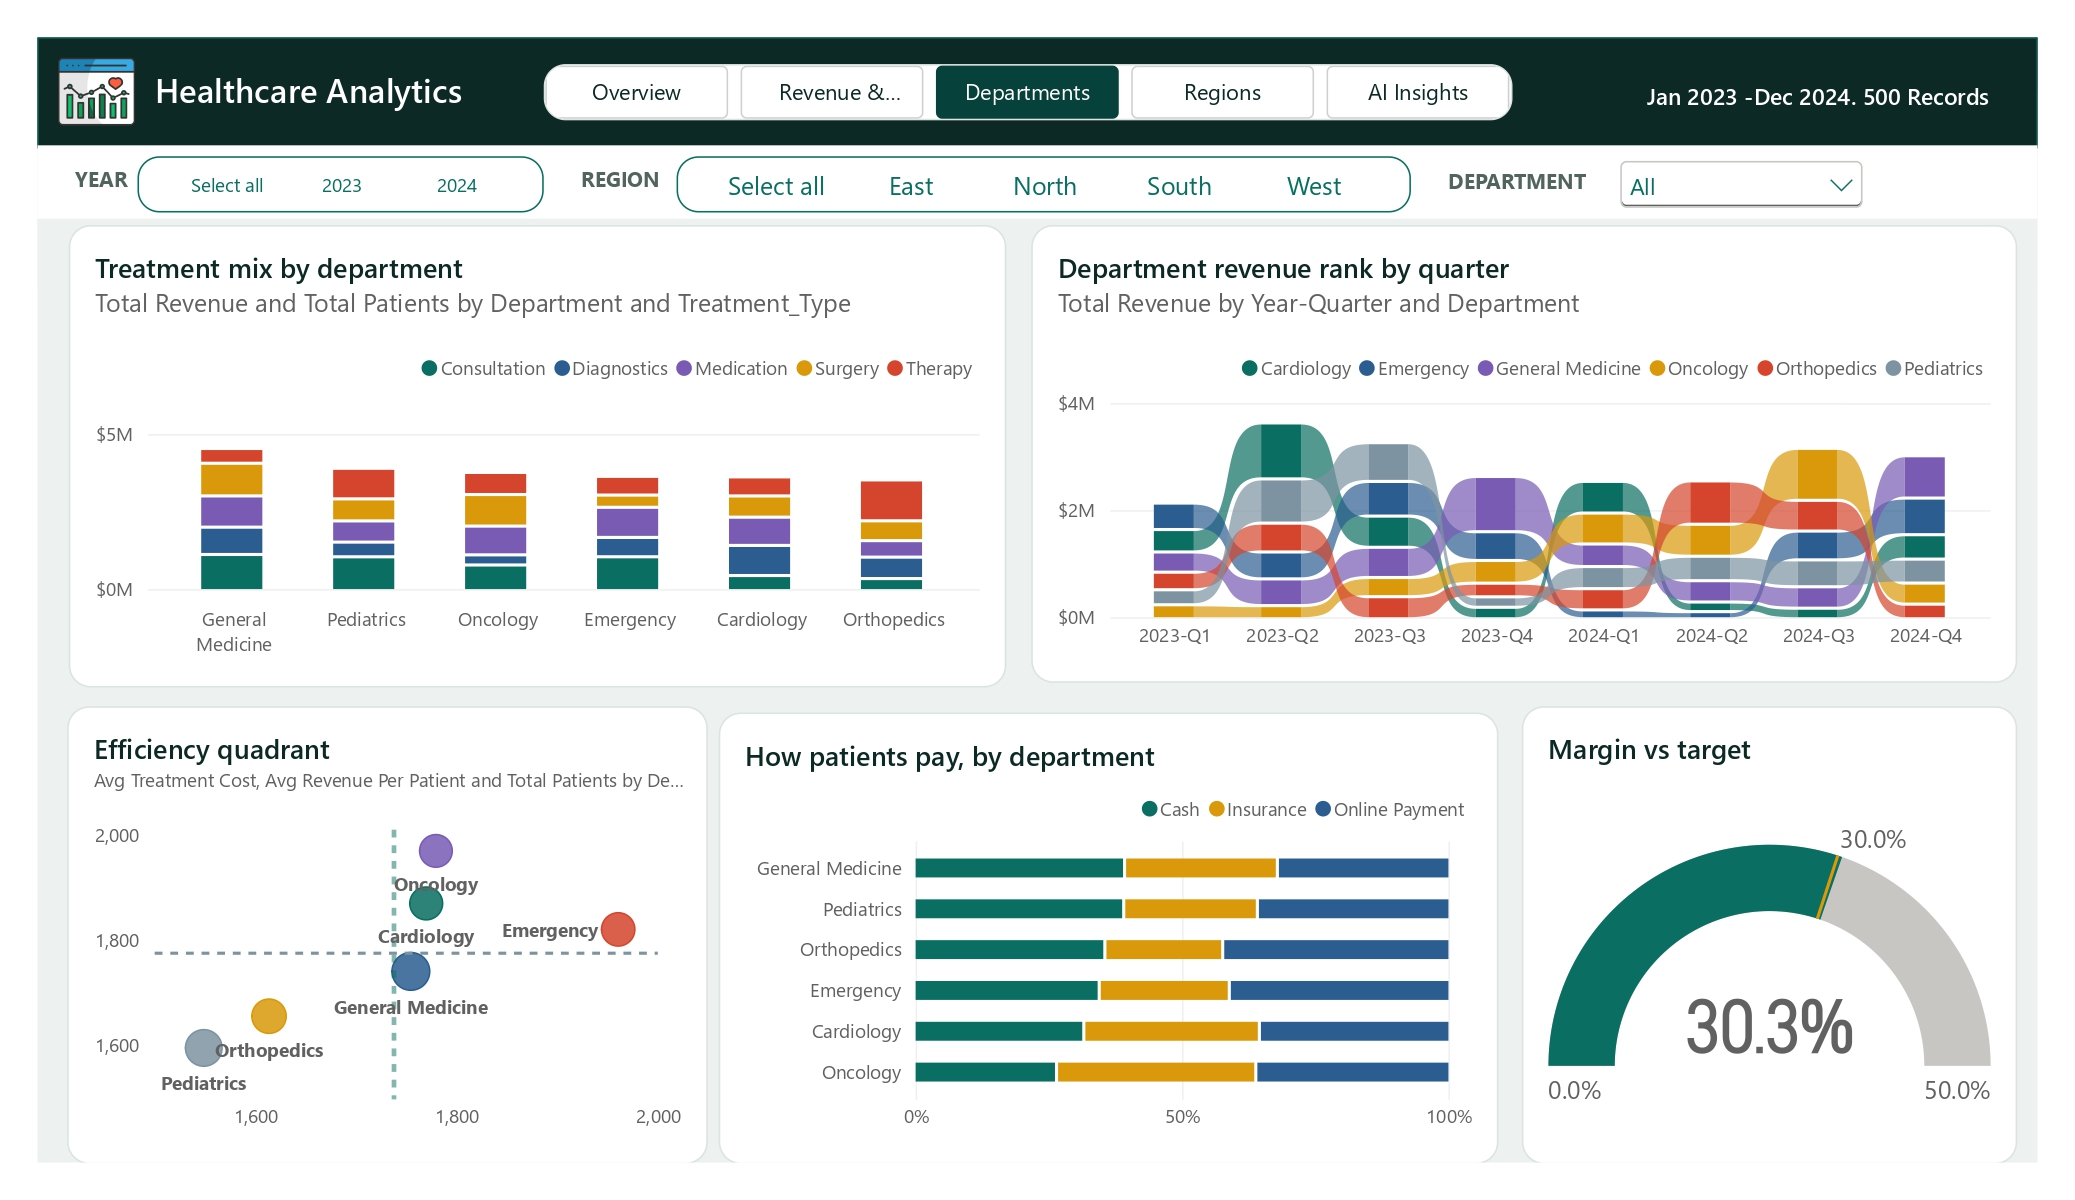

The page's visual inventory and layout, read from the dashboard file:
{"tool":"powerbi","page":{"name":"Departments","canvas":[1280,720],"ordinal":2},"visuals":[{"type":"shape","box":[0,0,1279.7,70.7],"z":0},{"type":"shape","box":[0,69,1280,47],"z":1000},{"type":"slicer","fields":{"Values":["DateTable.Year"]},"box":[64,75.8,260,36],"z":2000},{"type":"slicer","fields":{"Values":["Sheet1.Region"]},"box":[408.8,75.8,470.2,36.6],"z":3000},{"type":"slicer","fields":{"Values":["Sheet1.Department"]},"box":[1008.3,74.4,164.6,36.6],"z":4000},{"type":"textbox","box":[24,82,50.5,34.6],"z":5000},{"type":"textbox","box":[348,82,56,24],"z":6000},{"type":"textbox","box":[902.5,83,94,23.5],"z":7000},{"type":"textbox","box":[75,18.8,228,31.7],"z":8000},{"type":"image","box":[11.2,0,52.9,68.9],"z":9000},{"type":"textbox","box":[1030,27,249.5,30],"z":10000},{"type":"columnChart","title":"Treatment mix by department","fields":{"Category":["Sheet1.Department"],"Series":["Sheet1.Treatment_Type"],"Y":["_Measures.Total Revenue"]},"box":[20,120,600,296],"z":11000},{"type":"ribbonChart","title":"Department revenue rank by quarter","fields":{"Category":["DateTable.Year-Quarter"],"Series":["Sheet1.Department"],"Y":["_Measures.Total Revenue"]},"box":[635.8,120.1,631,293.1],"z":12000},{"type":"scatterChart","title":"Efficiency quadrant","fields":{"Category":["Sheet1.Department"],"Series":["Sheet1.Department"],"Size":["_Measures.Total Patients"],"X":["_Measures.Avg Treatment Cost"],"Y":["_Measures.Avg Revenue Per Patient"]},"box":[19.2,427.6,410,293.1],"z":13000},{"type":"hundredPercentStackedBarChart","title":"How patients pay, by department","fields":{"Category":["Sheet1.Department"],"Series":["Sheet1.Payment_Method"],"Y":["_Measures.Total Patients"]},"box":[435.6,432.4,499.7,288.3],"z":14000},{"type":"gauge","title":"Margin vs target","fields":{"TargetValue":["_Measures.Target Margin"],"Y":["_Measures.Profit Margin %"]},"box":[949.8,427.6,317.1,293.1],"z":15000},{"type":"pageNavigator","box":[323.9,17,620,36],"z":16000}]}

Visuals, with their boxes on the page's 1280x720 design canvas (x1, y1, x2, y2). These are canvas units, not pixel positions in the 2075x1200 screenshot, which may show the page scaled, cropped or inside an application window:
shape: [0, 0, 1280, 71]
shape: [0, 69, 1280, 116]
slicer - DateTable.Year: [64, 76, 324, 112]
slicer - Sheet1.Region: [409, 76, 879, 112]
slicer - Sheet1.Department: [1008, 74, 1173, 111]
textbox: [24, 82, 74, 117]
textbox: [348, 82, 404, 106]
textbox: [902, 83, 996, 106]
textbox: [75, 19, 303, 50]
image: [11, 0, 64, 69]
textbox: [1030, 27, 1280, 57]
"Treatment mix by department" columnChart: [20, 120, 620, 416]
"Department revenue rank by quarter" ribbonChart: [636, 120, 1267, 413]
"Efficiency quadrant" scatterChart: [19, 428, 429, 721]
"How patients pay, by department" hundredPercentStackedBarChart: [436, 432, 935, 721]
"Margin vs target" gauge: [950, 428, 1267, 721]
pageNavigator: [324, 17, 944, 53]
